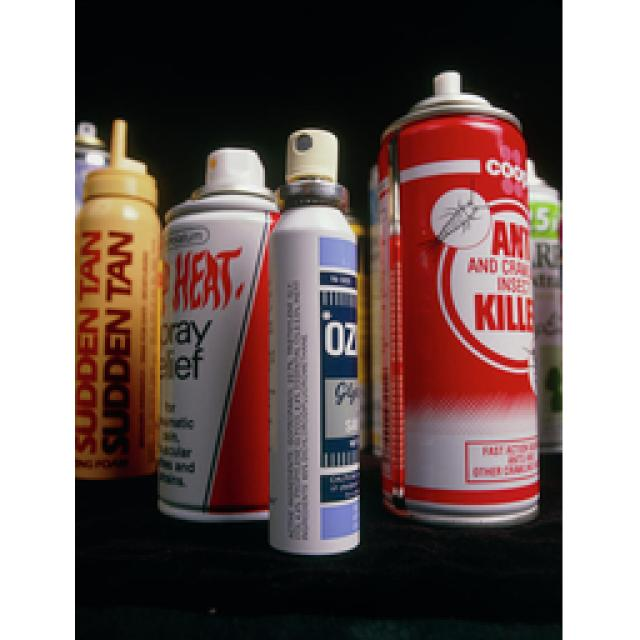B3: (378, 74, 548, 530), (268, 135, 392, 563)
